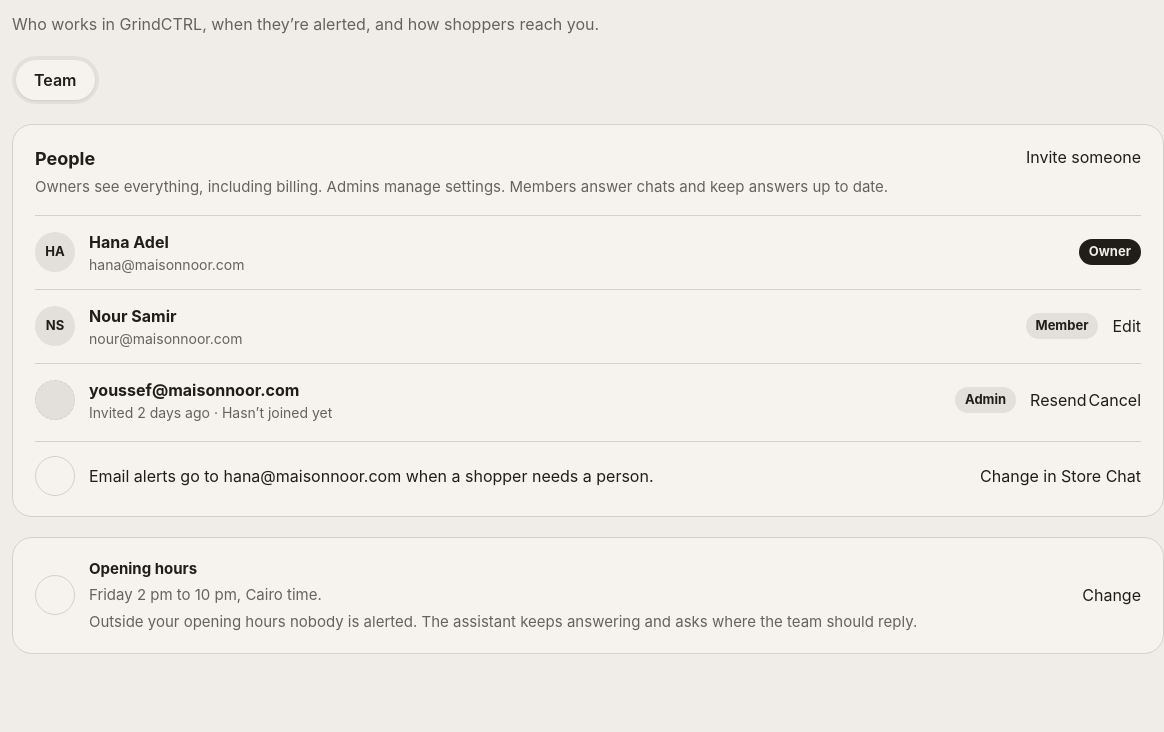
Test: V16Team, managing the team › lists the invite as the board does, with Resend and Cancel
Expected: the list item "youssef@maisonnoor.com" shows "Invited 2 days ago · Hasn’t joined yet", [35, 362, 1141, 436]
Expected: the list item "youssef@maisonnoor.com" shows "Admin", [965, 391, 1006, 407]
Click the button with aria-label "Resend the invite to youssef@maisonnoor.com": coordinates (1058, 400) [1030, 380, 1086, 420]
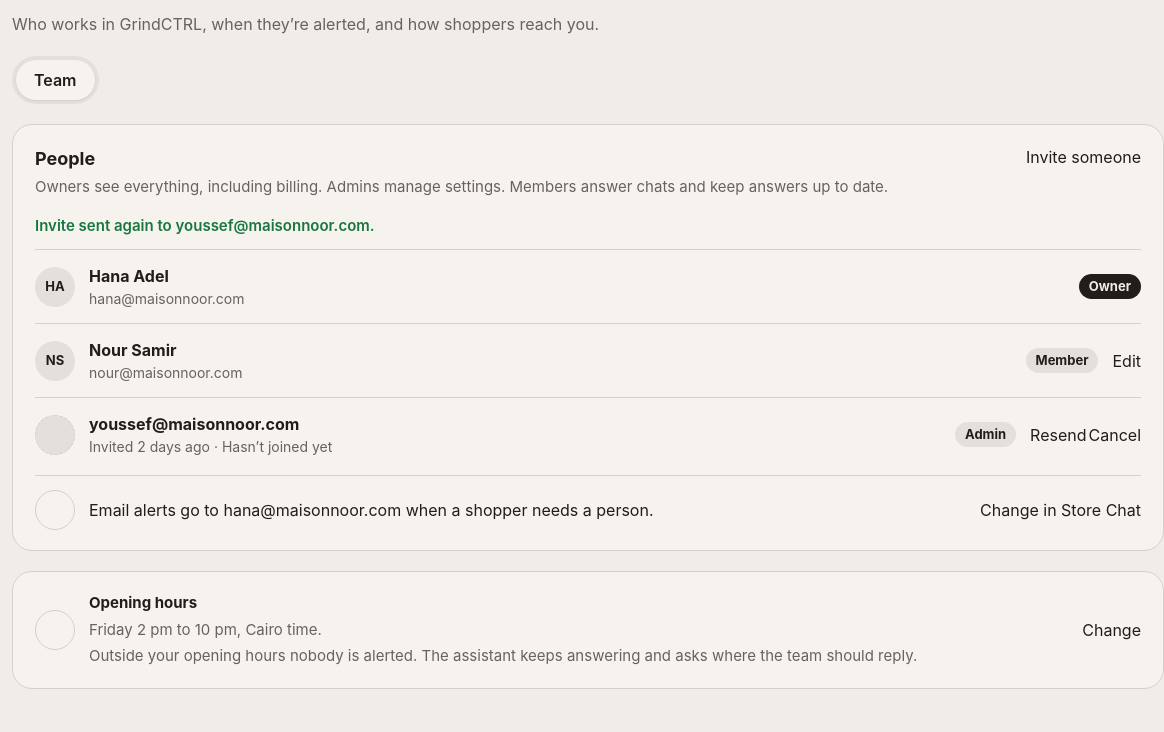
Expected: the message reads "Invite sent again to youssef@maisonnoor.com.", [35, 216, 375, 234]
Click the button with aria-label "Cancel the invite to youssef@maisonnoor.com": coordinates (1115, 434) [1088, 414, 1141, 454]
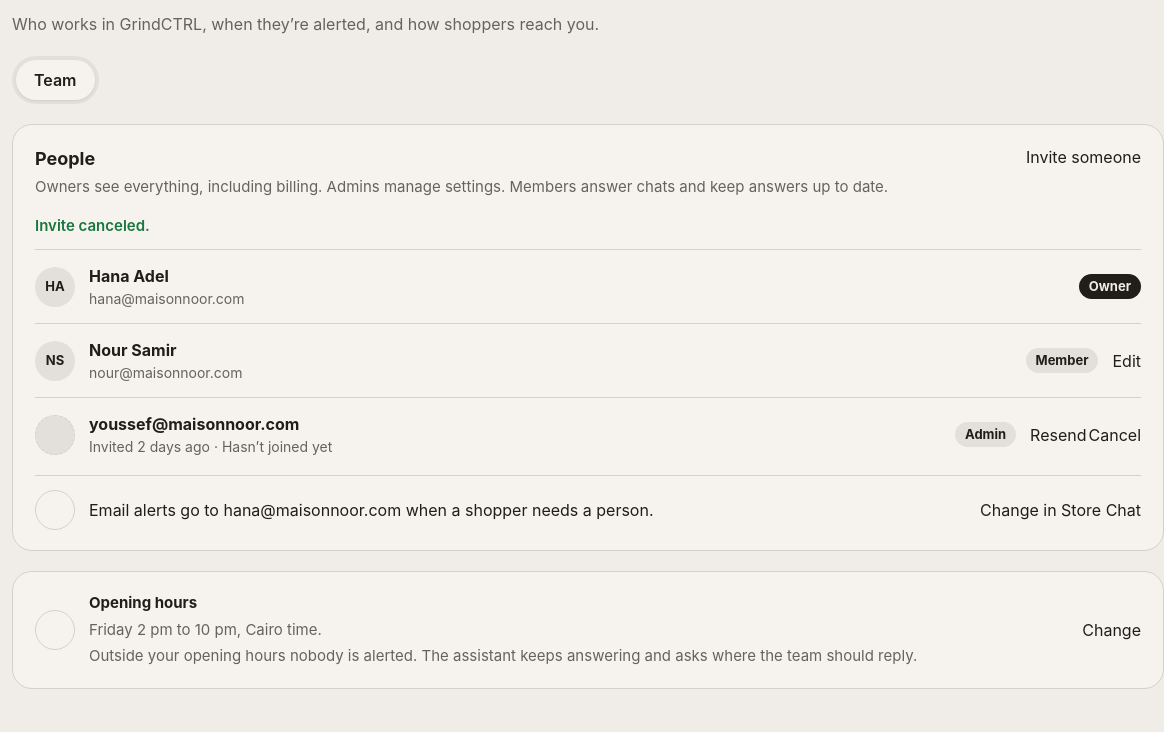
Expected: the message reads "Invite canceled.", [35, 216, 150, 234]
